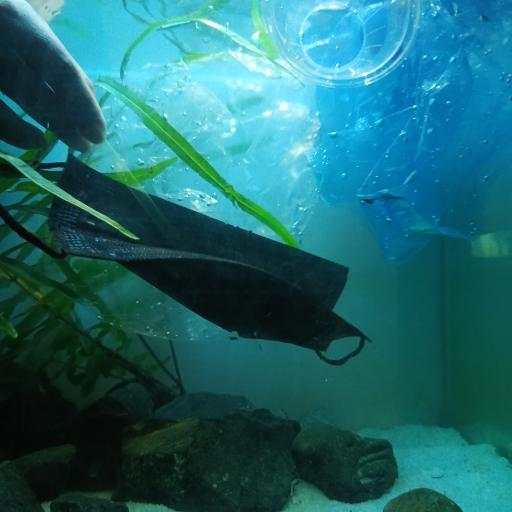mask: (30, 154, 370, 365)
plastic_bag: (74, 33, 320, 346), (320, 0, 512, 266)
plastic_cup: (267, 0, 421, 88)
plastic_straw: (100, 143, 184, 248)
